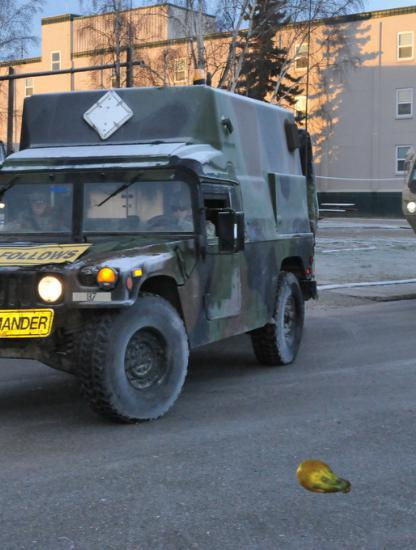Cactus: (295, 449, 354, 508)
